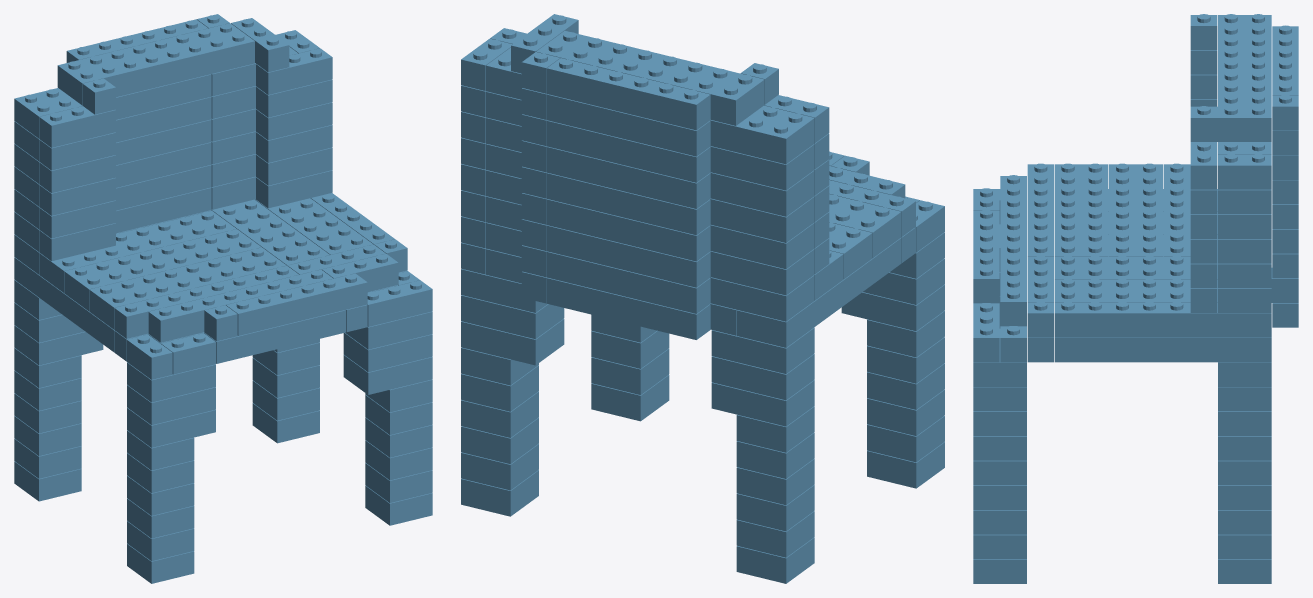
The model's file is 159_chair_L4.glb.
The picture shows the model from 3 angles, left to right: view 1: azimuth 30°, elevation 25°; view 2: azimuth 150°, elevation 25°; view 3: azimuth 270°, elevation 25°; orthographic projection. The views are drawn at different scales.
Bounding box in the file's own units: 12.98 × 18.13 × 11.98.
